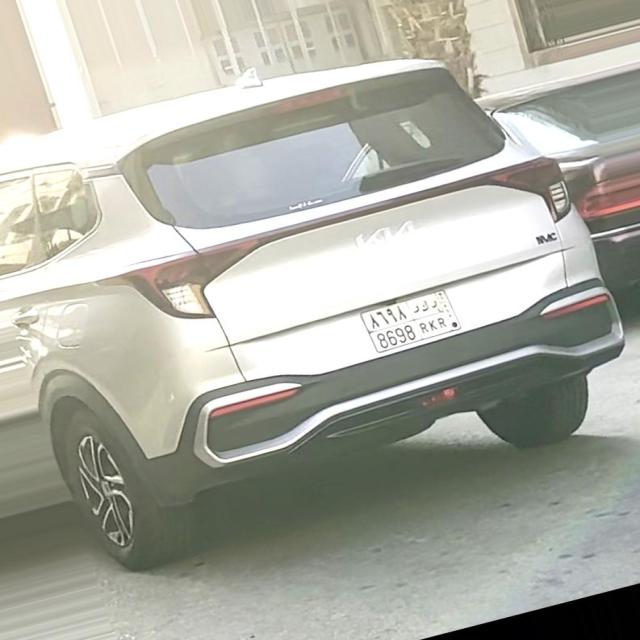Car-plate: (352, 280, 480, 364)
